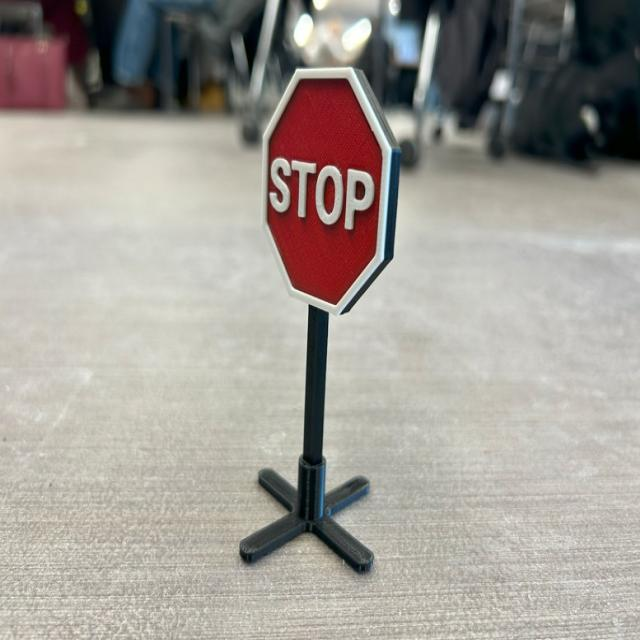sign_stop: (245, 51, 407, 327)
